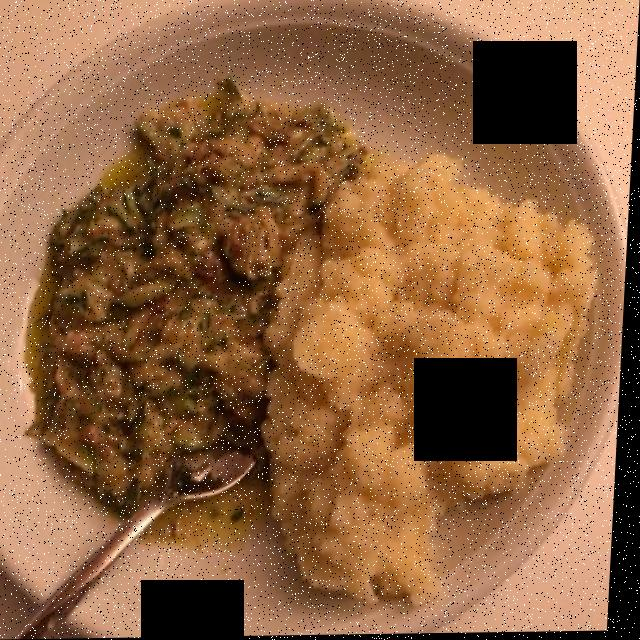mashed-potatoes-prepared-with-full-fat-milk-with-butter: (259, 141, 594, 609)
zucchini: (18, 85, 365, 514)
